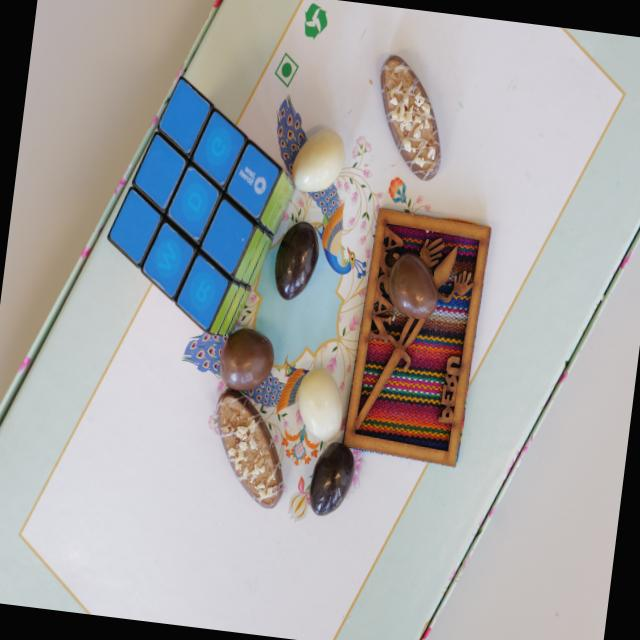Amandina: (367, 52, 453, 182), (205, 390, 292, 509)
Jelly_Black: (270, 219, 321, 303), (306, 441, 356, 518)
Jelly_Milk: (217, 326, 276, 394), (384, 252, 442, 320)
Jelly_White: (291, 368, 347, 443), (288, 128, 346, 194)
